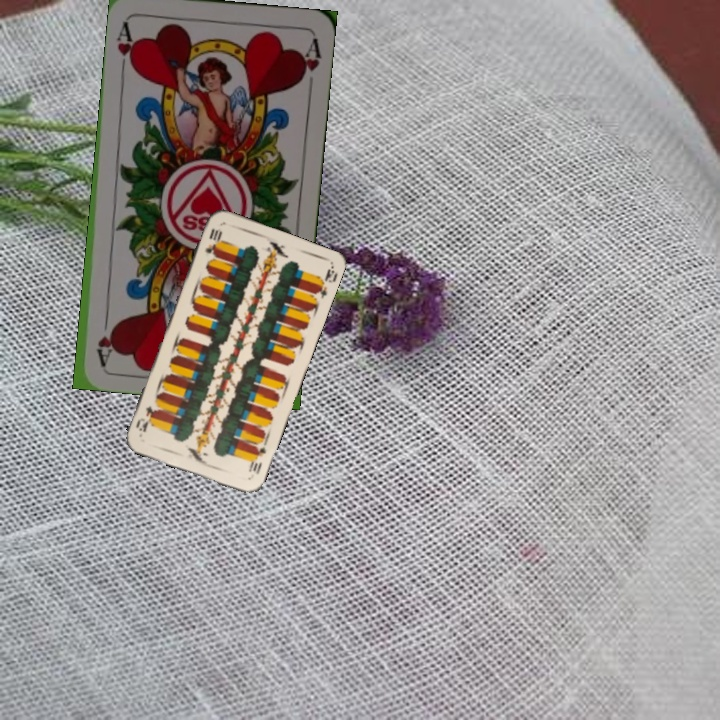E10: (201, 225, 225, 263), (244, 442, 268, 477)
HA: (112, 17, 139, 75)
